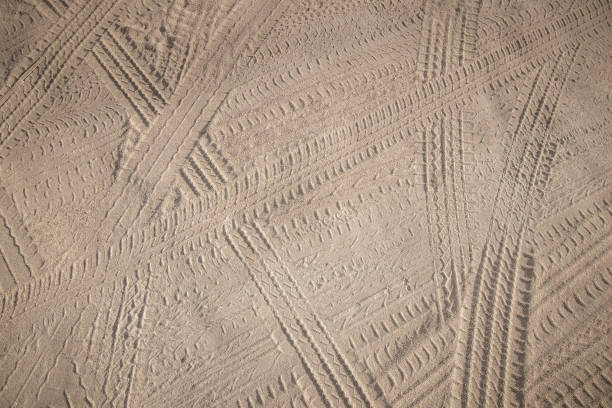vehicle_track: (0, 5, 606, 331), (36, 0, 390, 402), (0, 0, 288, 404), (18, 23, 419, 221), (453, 22, 597, 407), (419, 0, 480, 326), (3, 5, 121, 155)
